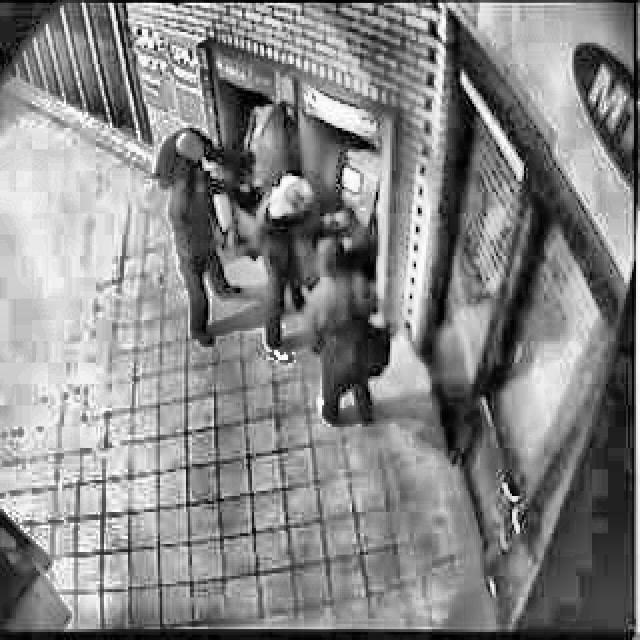burglary: (156, 87, 393, 431)
